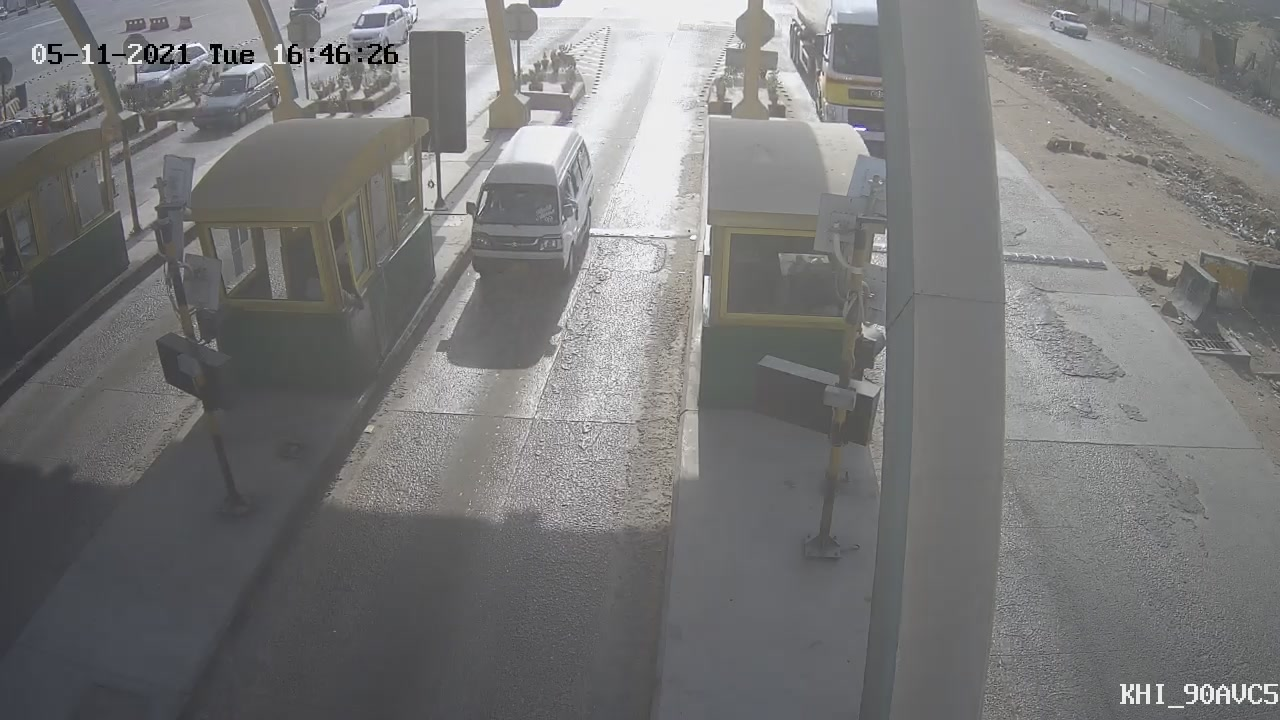F1: (443, 112, 613, 301)
